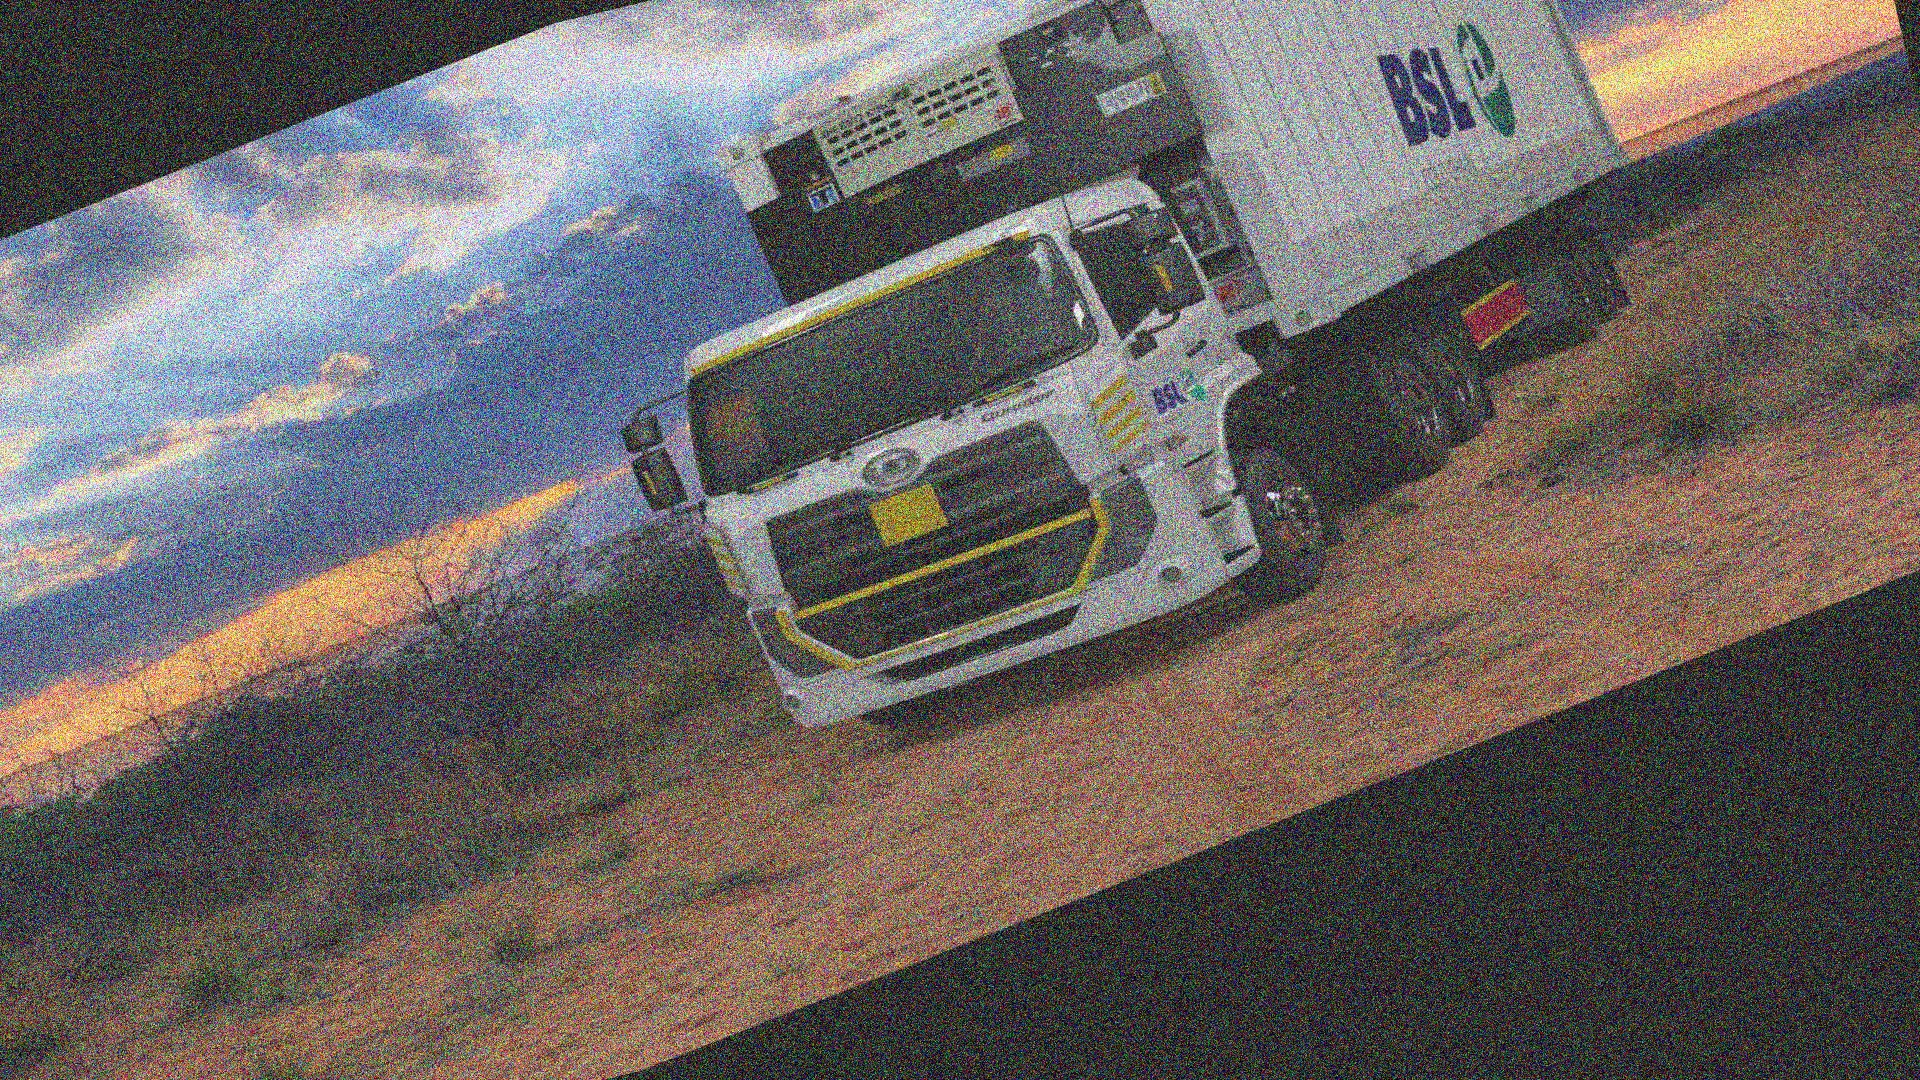truck: (516, 0, 1779, 820)
